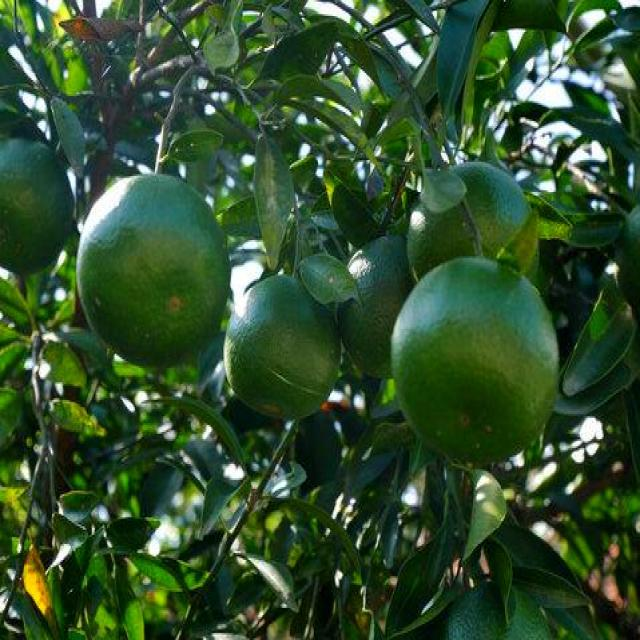Jeruk Belum Matang: (390, 254, 561, 471), (76, 170, 230, 368), (222, 268, 349, 428), (404, 162, 546, 286), (0, 133, 76, 299), (339, 236, 418, 378), (440, 579, 550, 640), (621, 201, 640, 347)
